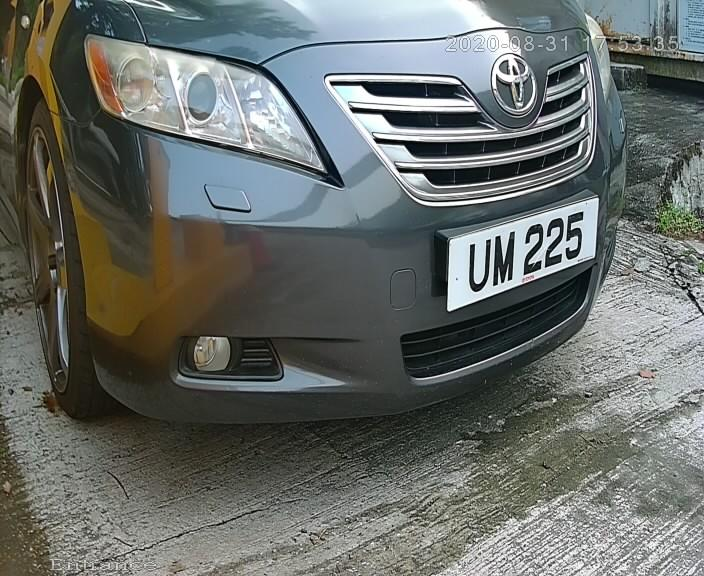Car: (19, 11, 667, 461)
License Plate: (437, 193, 601, 319)
